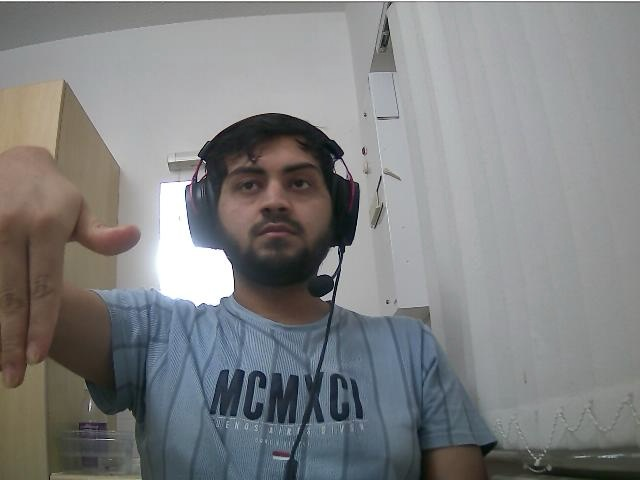down: (1, 144, 79, 390)
